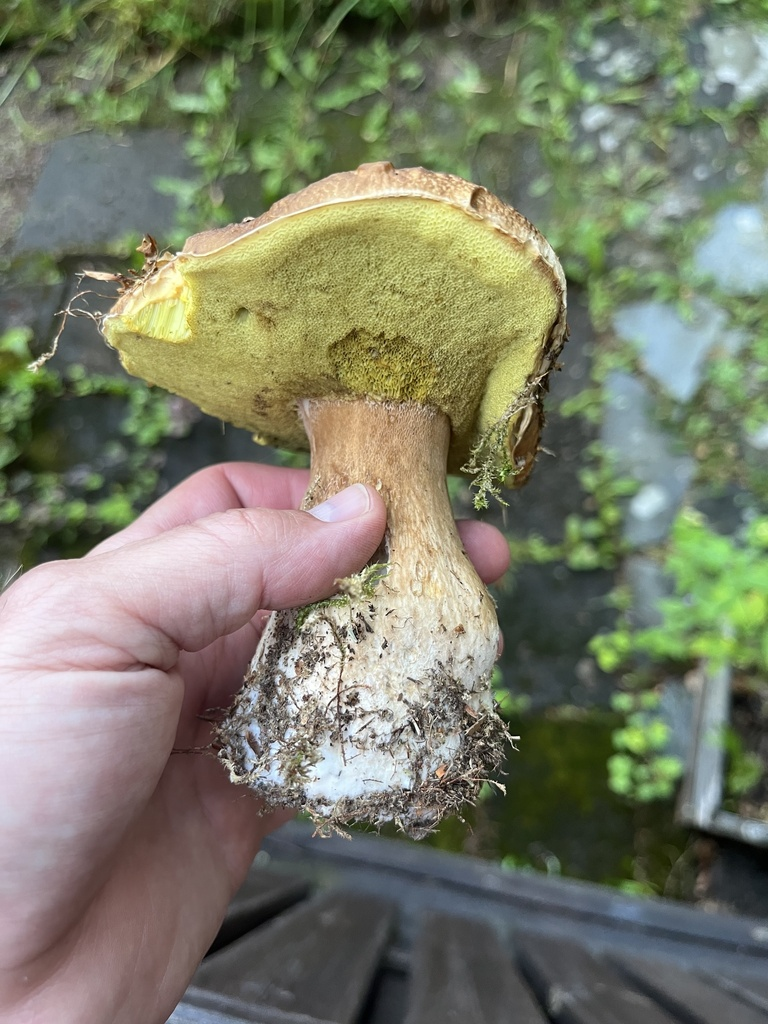stem: (218, 402, 504, 836)
underside: (109, 198, 554, 465)
